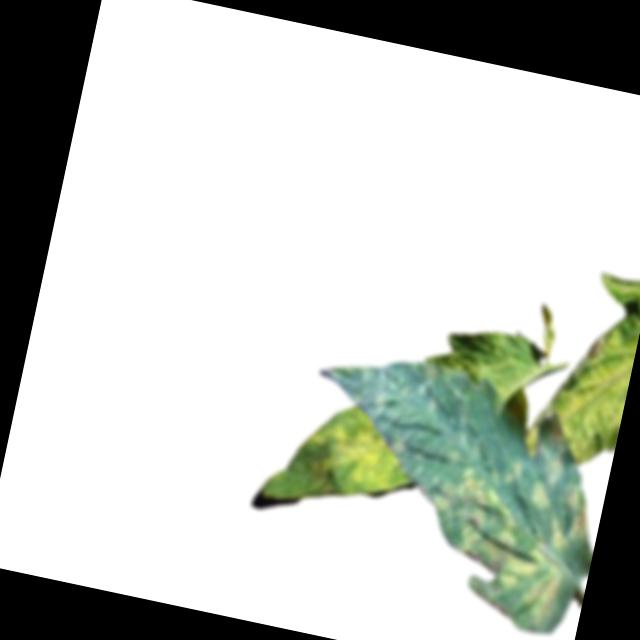Leaf_Mold: (401, 445, 598, 635), (527, 320, 637, 482), (301, 405, 411, 501)
